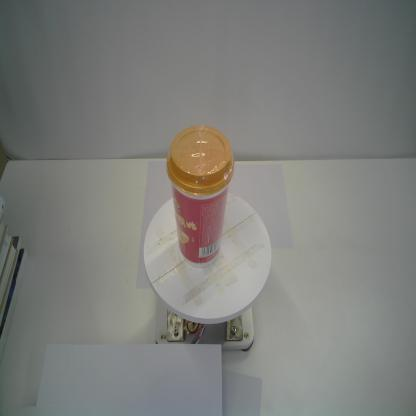Instant Drink: (166, 124, 235, 269)
